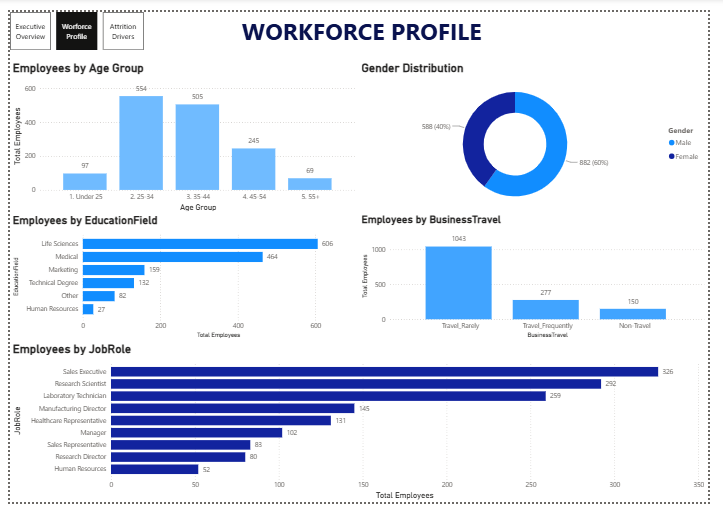

This screenshot's page, from the dashboard's own definition file:
{"tool":"powerbi","page":{"name":"Worforce Profile","canvas":[1280,900],"ordinal":1},"visuals":[{"type":"clusteredColumnChart","title":"Employees by Age Group","fields":{"Category":["cleaned_employee.Age Group"],"Y":["cleaned_employee.Total Employees"]},"box":[0,90.2,639,280.5],"z":0},{"type":"donutChart","title":"Gender Distribution","fields":{"Category":["cleaned_employee.Gender"],"Y":["cleaned_employee.Total Employees"]},"box":[639,90.2,639,280.5],"z":1000},{"type":"barChart","title":"Employees by EducationField","fields":{"Category":["cleaned_employee.EducationField"],"Y":["cleaned_employee.Total Employees"]},"box":[0,370.7,646.3,234.1],"z":2000},{"type":"columnChart","title":"Employees by BusinessTravel","fields":{"Category":["cleaned_employee.BusinessTravel"],"Y":["cleaned_employee.Total Employees"]},"box":[639,370.7,639,234.1],"z":3000},{"type":"barChart","title":"Employees by JobRole","fields":{"Category":["cleaned_employee.JobRole"],"Y":["cleaned_employee.Total Employees"]},"box":[0,604.9,1278,295.1],"z":4000},{"type":"textbox","box":[9.8,0,1270.7,90.2],"z":5000},{"type":"pageNavigator","box":[0,0,247.5,70],"z":5001}]}

Visuals, with their boxes on the page's 1280x900 design canvas (x1, y1, x2, y2). These are canvas units, not pixel positions in the 723x521 screenshot, which may show the page scaled, cropped or inside an application window:
"Employees by Age Group" clusteredColumnChart: rect(0, 90, 639, 371)
"Gender Distribution" donutChart: rect(639, 90, 1278, 371)
"Employees by EducationField" barChart: rect(0, 371, 646, 605)
"Employees by BusinessTravel" columnChart: rect(639, 371, 1278, 605)
"Employees by JobRole" barChart: rect(0, 605, 1278, 900)
textbox: rect(10, 0, 1280, 90)
pageNavigator: rect(0, 0, 248, 70)
